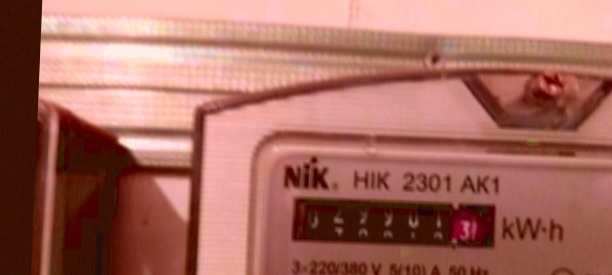0: (404, 203, 419, 229), (303, 206, 320, 228)
1: (429, 205, 443, 229)
2: (328, 204, 345, 224)
3: (456, 217, 470, 240)
9: (379, 204, 394, 227), (354, 203, 367, 226)
screen: (276, 185, 506, 258)
